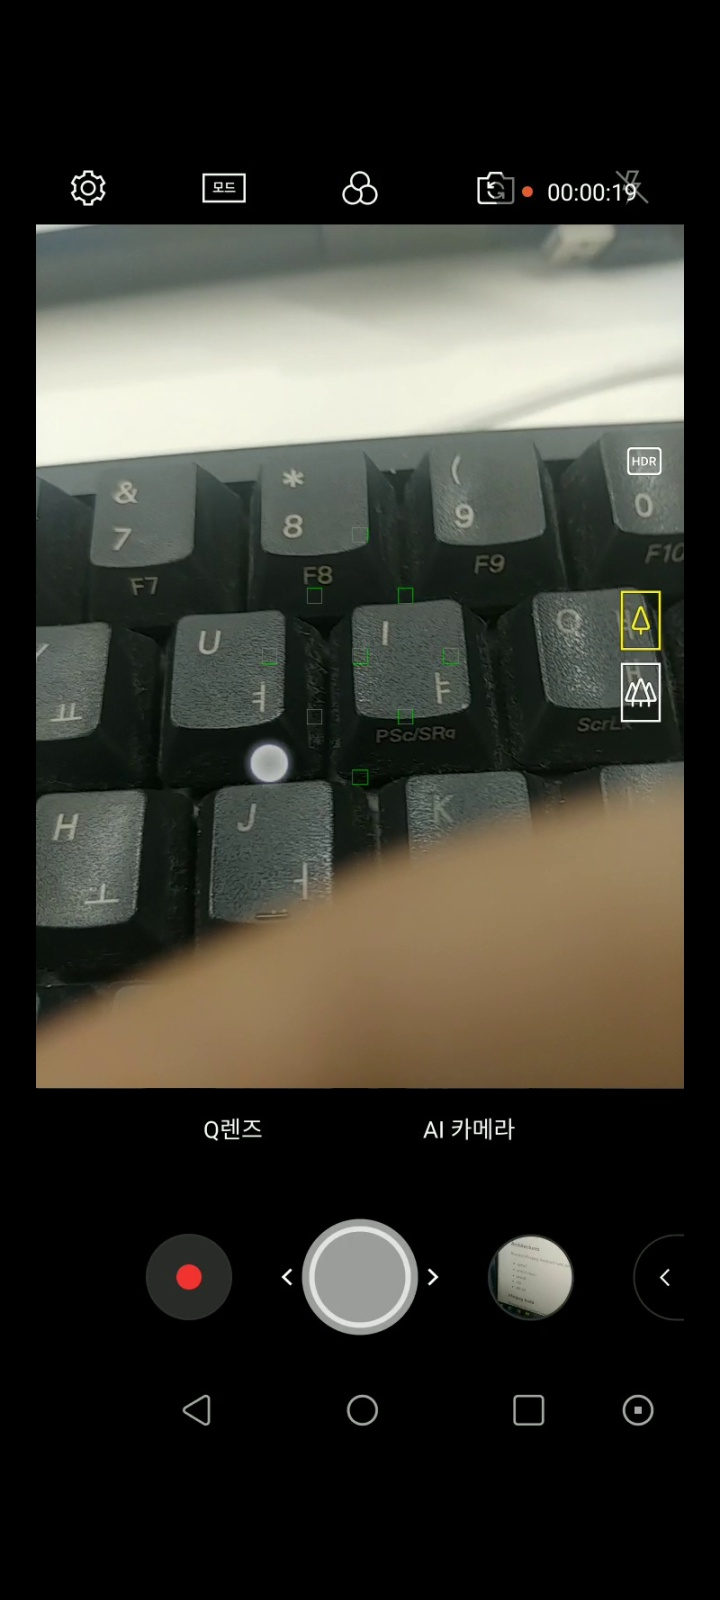Cursor: (247, 741, 292, 786)
